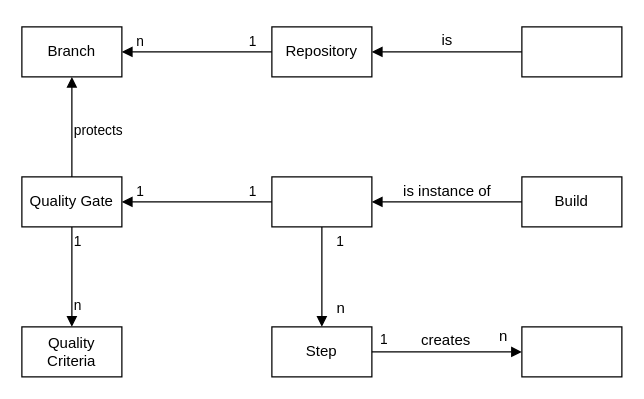
The diagram is 644 pixels wide and 399 high, and some of its shapes have lost their labels. Here are the shapes that lost their labels. From the top down, the centre of each, then its label:
(571,51): SPL
(321,201): Pipeline
(571,351): Artifact
